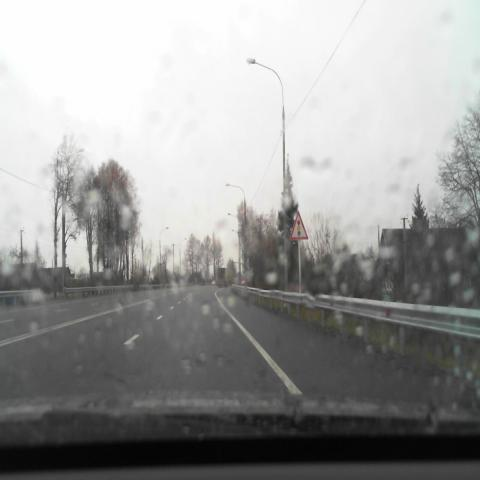1_8: (290, 211, 308, 240)
